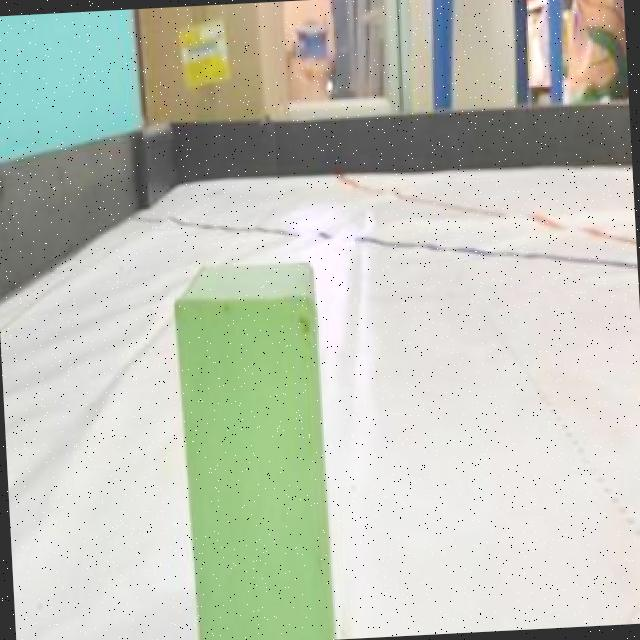greenbox: (172, 254, 336, 640)
